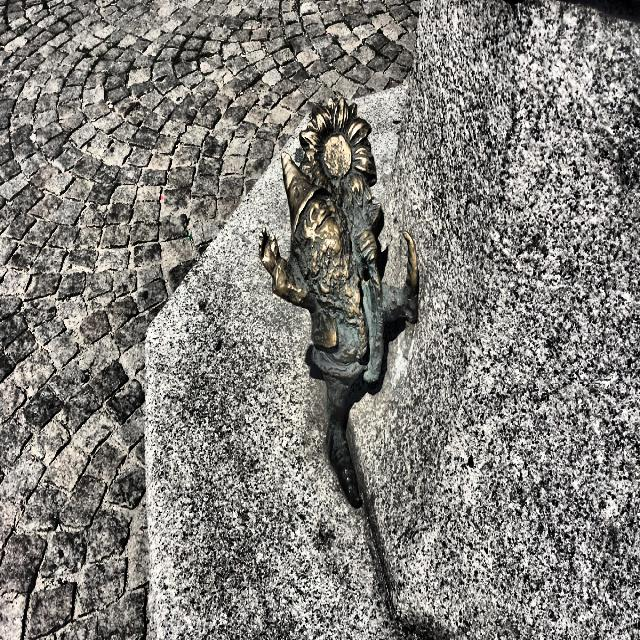Zyczliwek: (259, 98, 419, 507)
